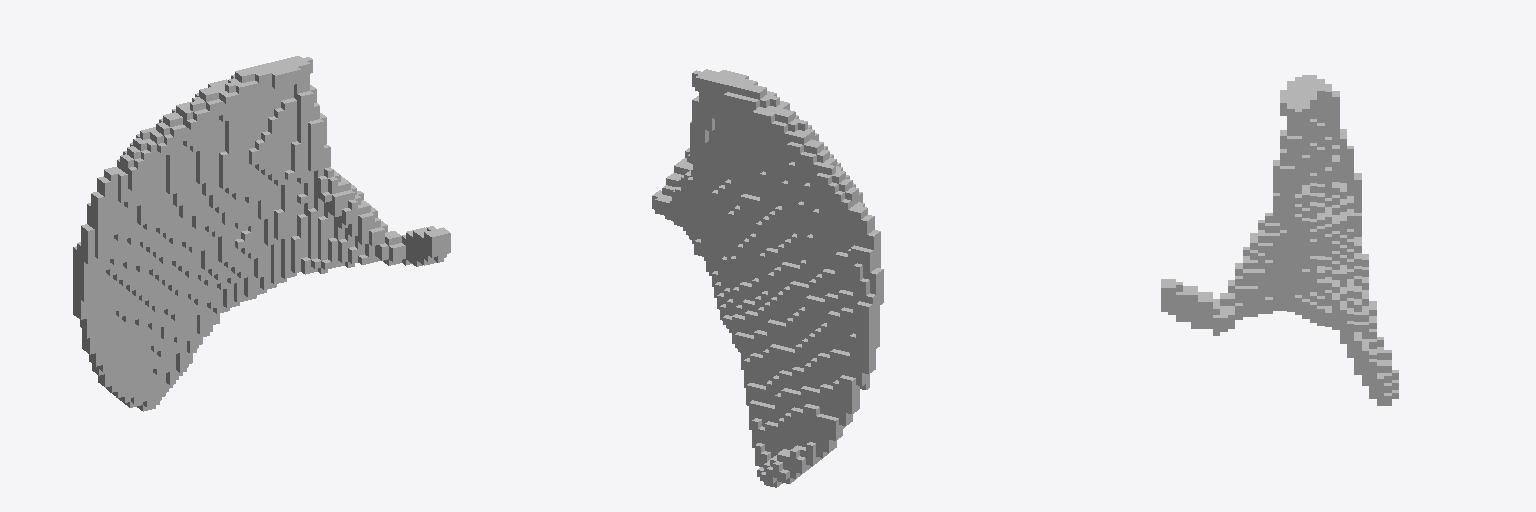
The model's file is bat_wing.obj.
3 renders of one model, left to right at view 1: azimuth 30°, elevation 25°; view 2: azimuth 150°, elevation 25°; view 3: azimuth 270°, elevation 25°, orthographic.
Visible parts, largest first — view 1: bat_wing; view 2: bat_wing; view 3: bat_wing.
Boxes of the visible parts, x1,y1,x2,y2 form: bat_wing: [73, 56, 450, 411]; bat_wing: [652, 69, 883, 487]; bat_wing: [1161, 75, 1398, 405].
Size of the model in its own units: 22 by 26 by 16.